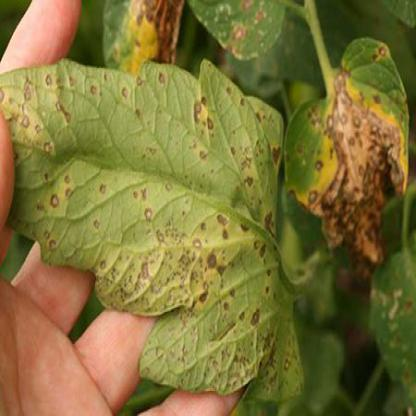tomato septoria leaf spot: (2, 61, 305, 410), (298, 39, 411, 257)
